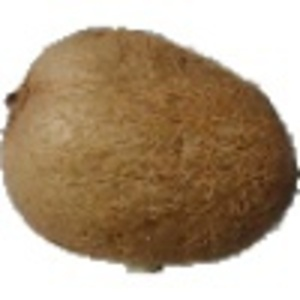kiwi: (1, 25, 300, 277)
